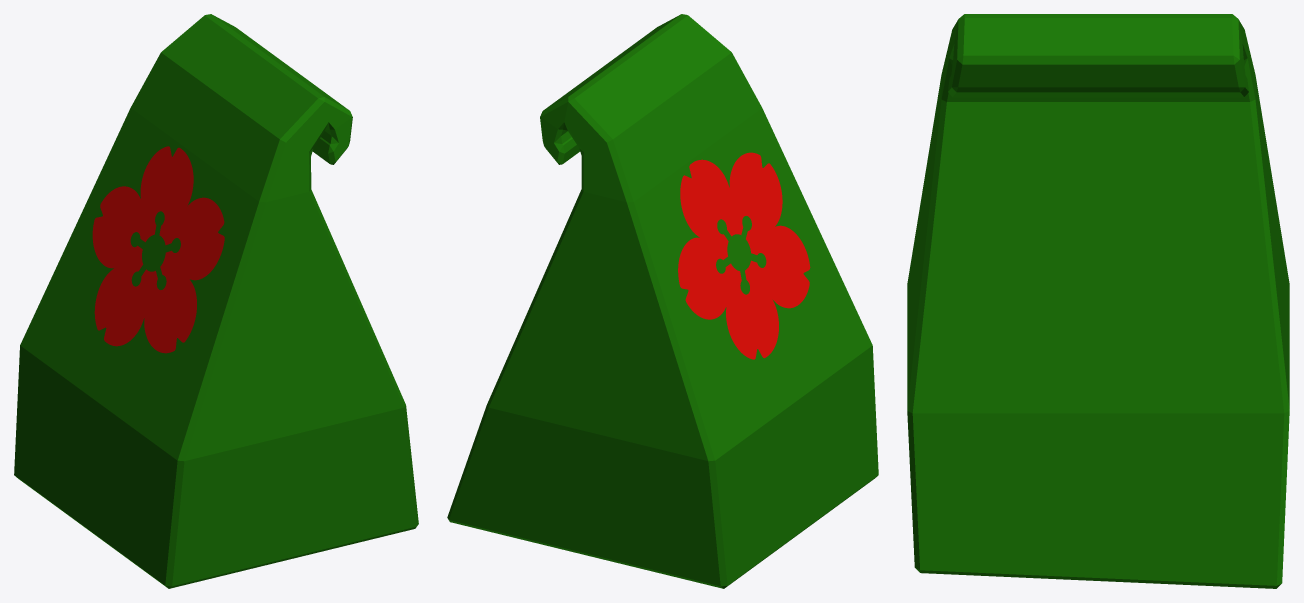
File: FERTILIZER.fbx
3 renders of one model, left to right at view 1: azimuth 30°, elevation 25°; view 2: azimuth 150°, elevation 25°; view 3: azimuth 270°, elevation 25°, orthographic. The views are drawn at different scales.
Visible parts, largest first — view 1: Plane, Text; view 2: Plane, Text; view 3: Plane.
Part boxes in pixels (x1,y1,x2,y2): Plane: (14, 14, 418, 588); Text: (92, 146, 224, 353); Plane: (447, 14, 878, 588); Text: (678, 152, 810, 359); Plane: (907, 14, 1289, 588).
Size of the model in its own units: 87.81 by 130 by 87.96.
